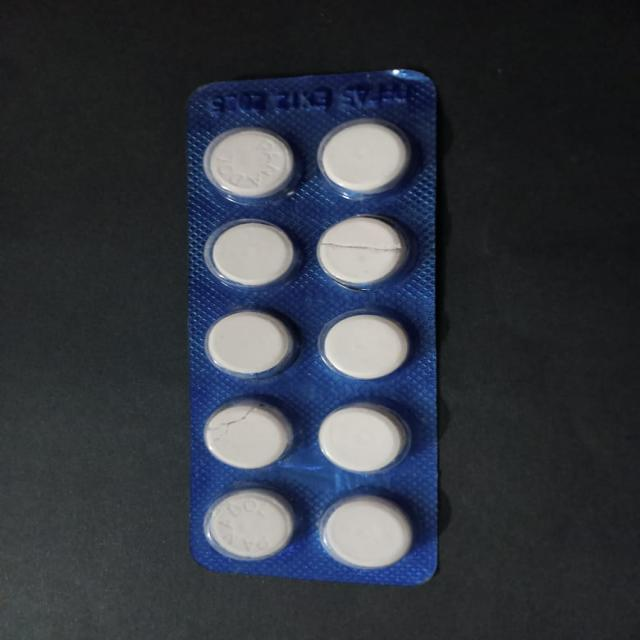defect: (314, 210, 418, 293), (200, 394, 298, 472)
